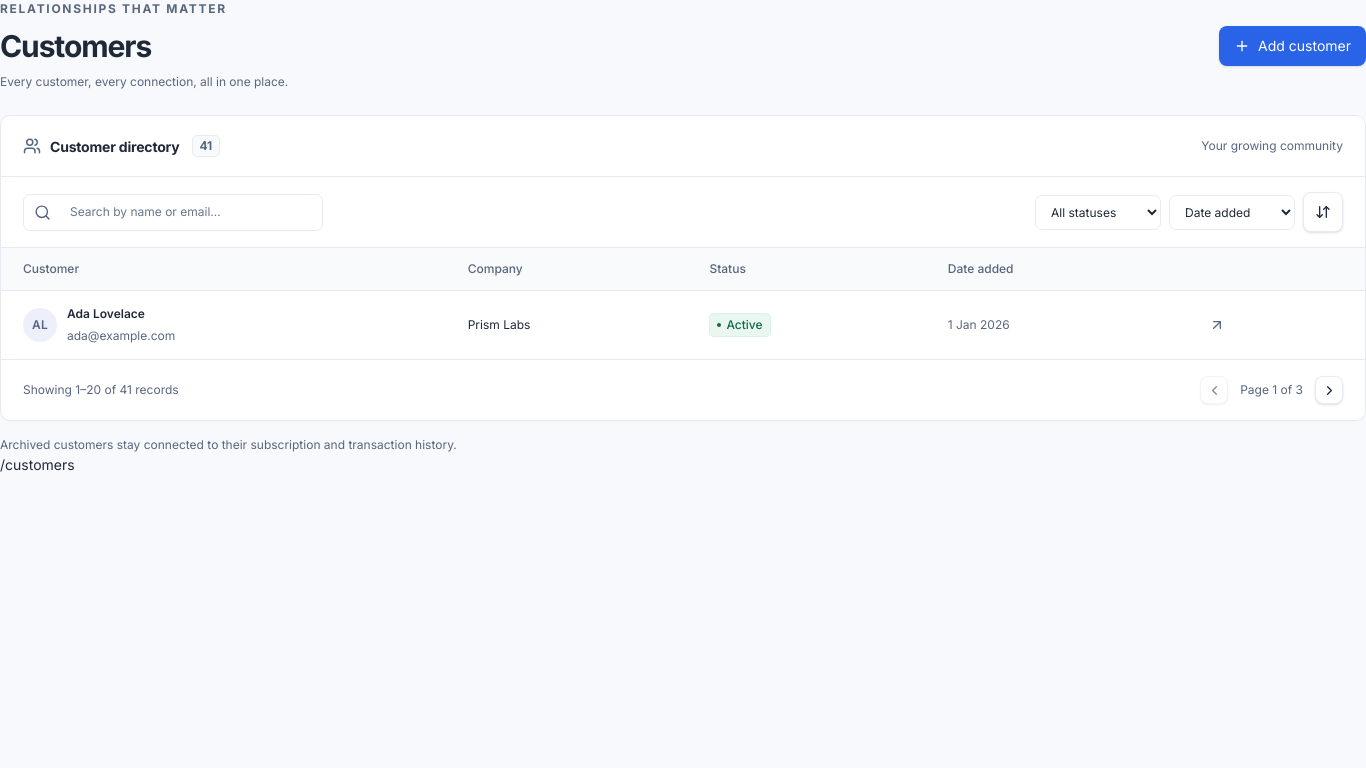
Test: customer pages › creates a customer from the page and returns to the directory
Step 1. Click the button "Add customer" → (1292, 46), box [1219, 26, 1365, 66]
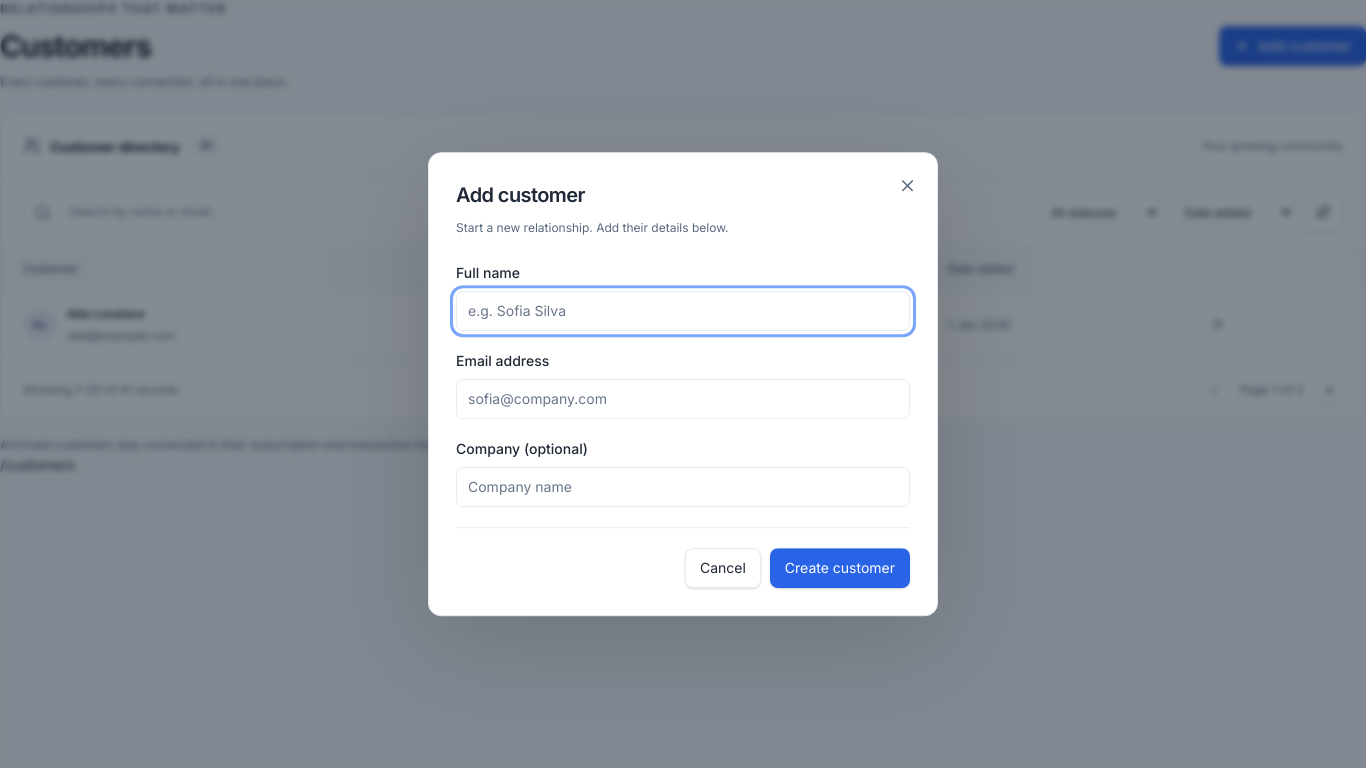
Step 2. Type "Grace Hopper" into the field labelled "Full name" → (683, 311), box [456, 291, 910, 331]
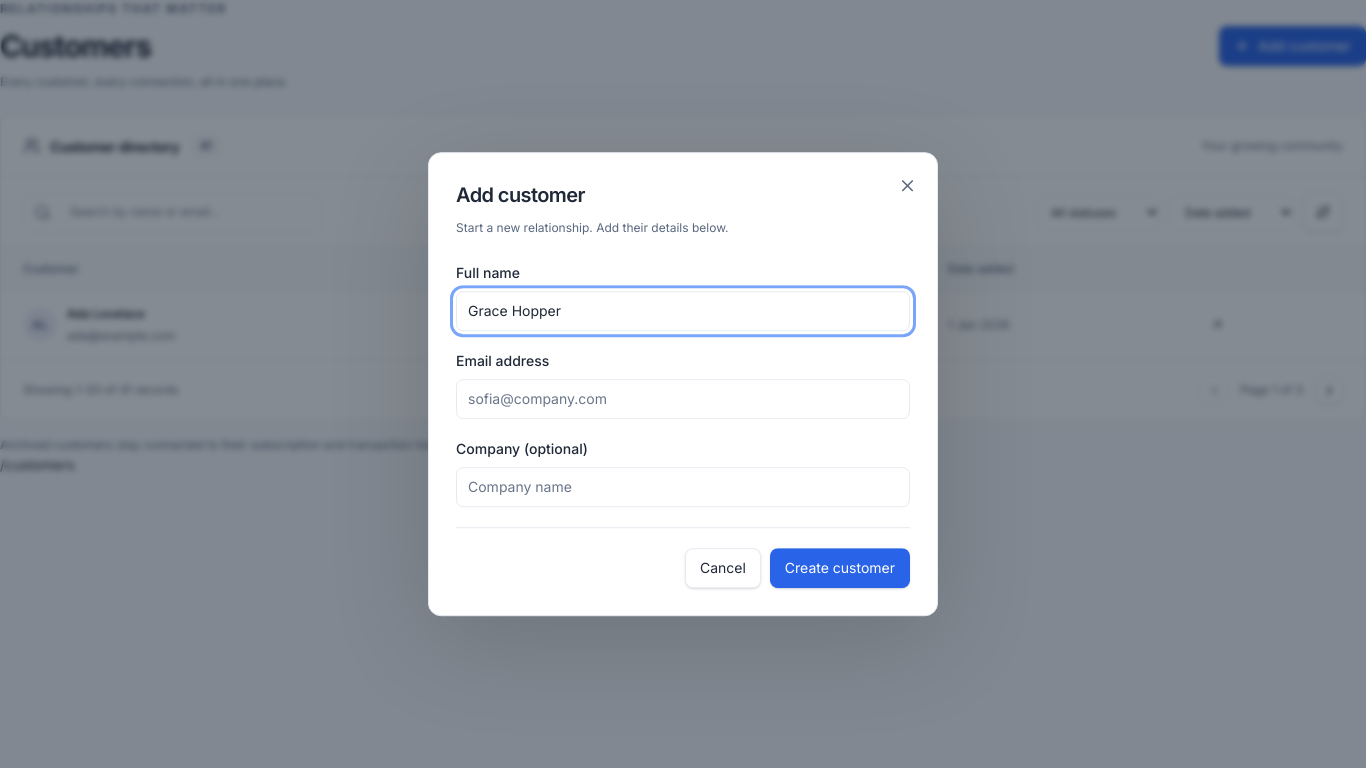
Step 3. Type "grace@example.com" into the field labelled "Email address" → (683, 399), box [456, 379, 910, 419]
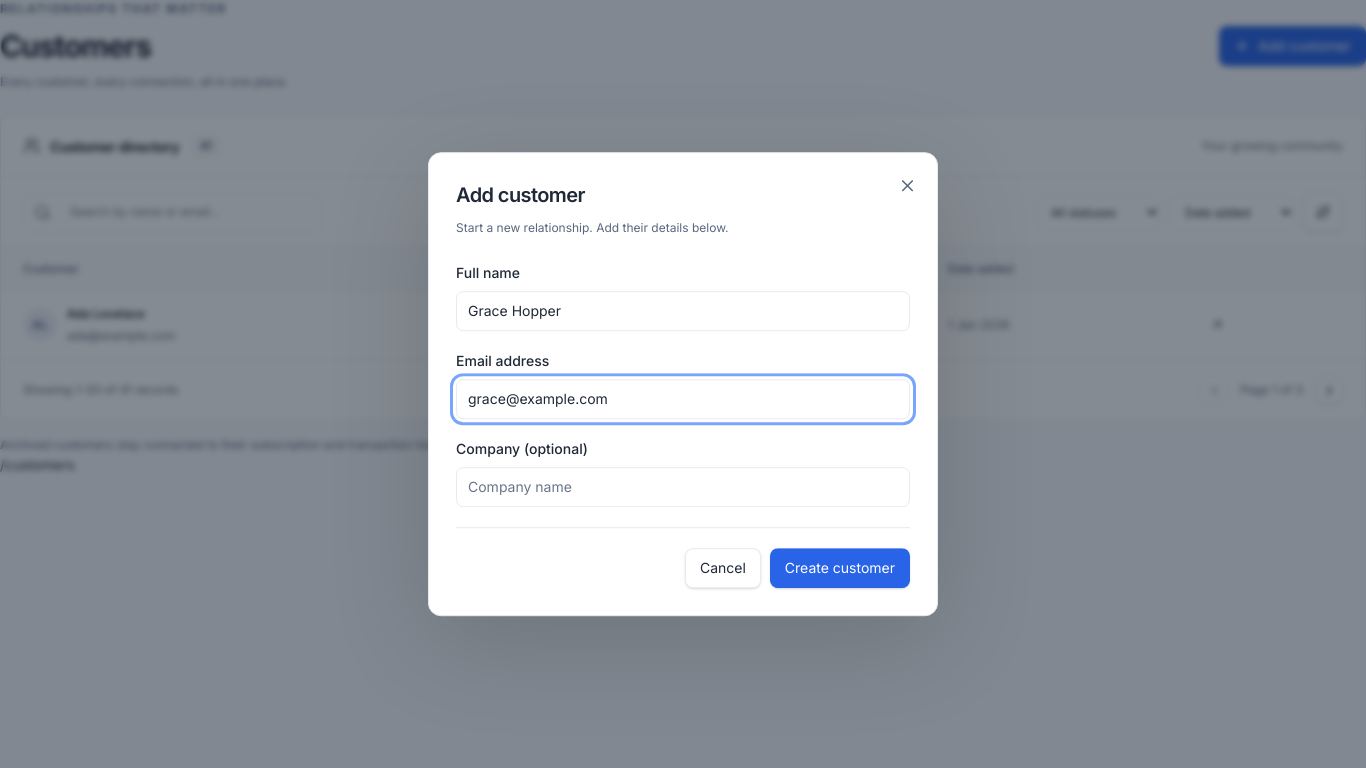
Step 4. Click the button "Create customer" → (840, 568), box [770, 548, 910, 588]
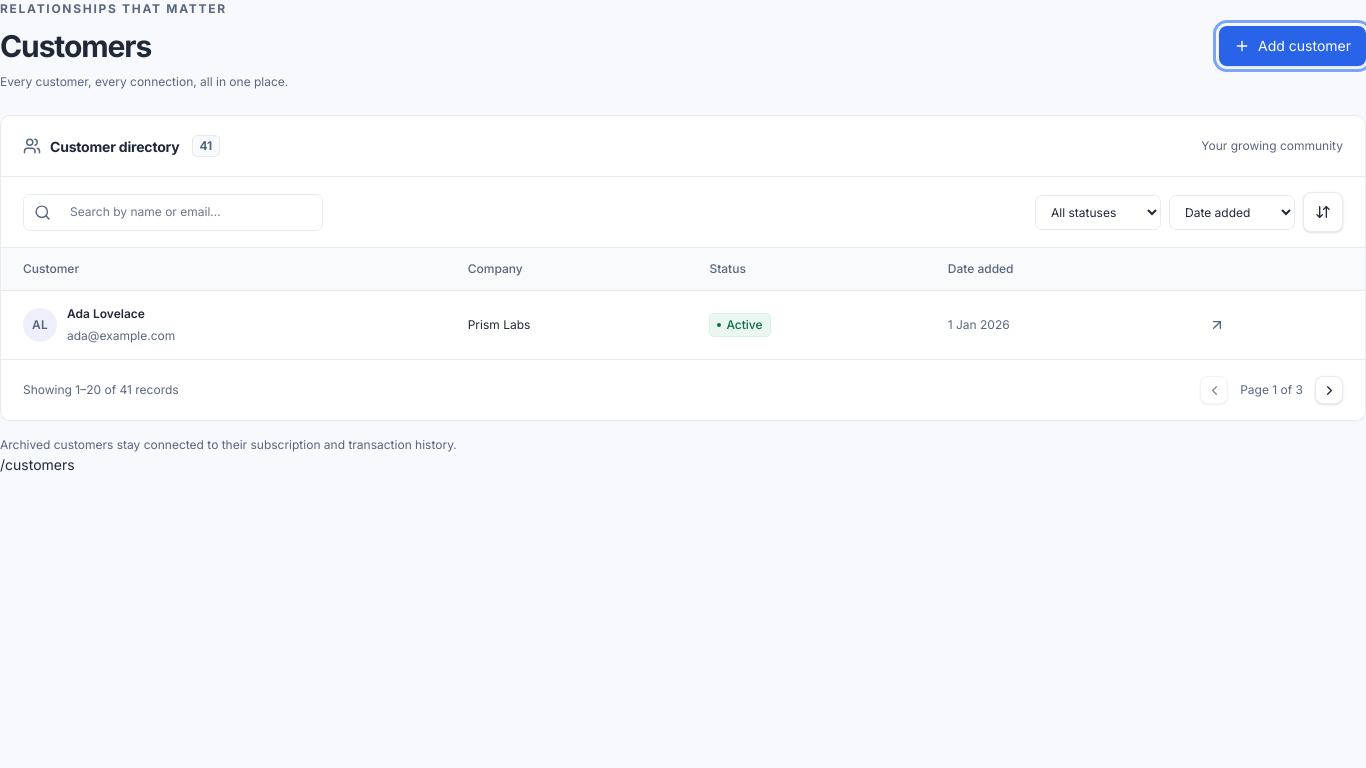
expect the dialog is gone: met
